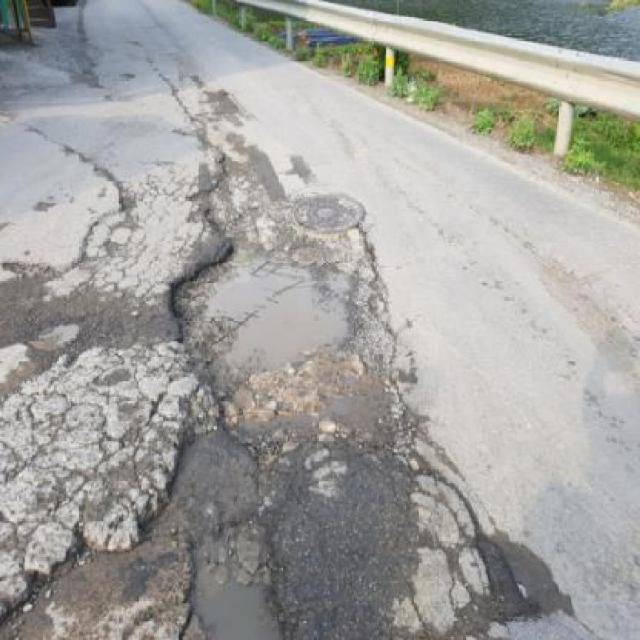pothole: (158, 246, 374, 397), (160, 518, 278, 640), (290, 190, 368, 236)
